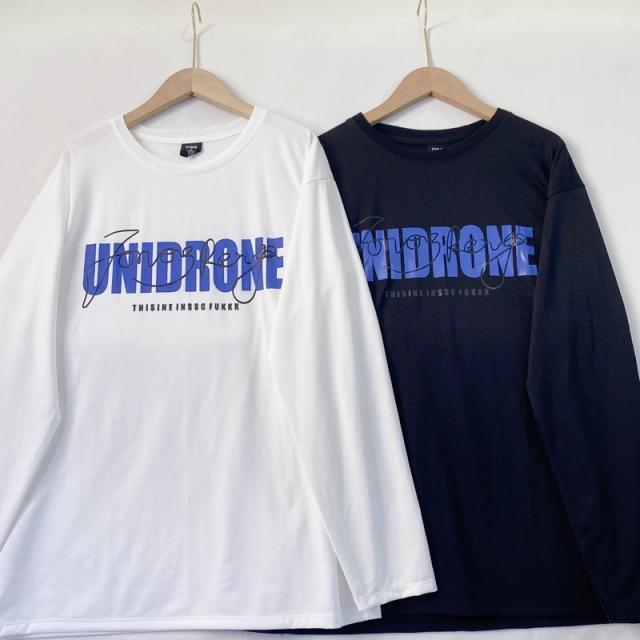Shirt: (1, 107, 432, 629), (300, 101, 640, 628)
